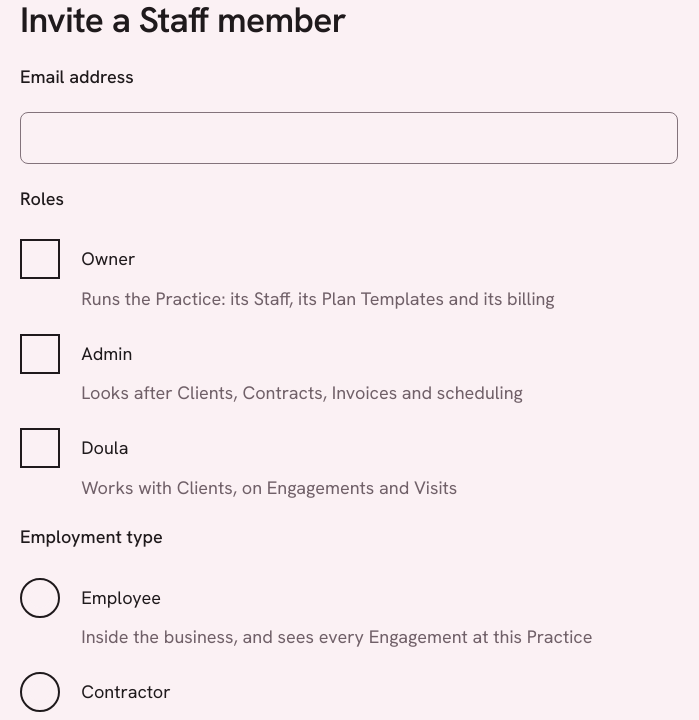
Test: invite a Staff member screen › refuses to send an invitation with no employment type chosen
In the field labelled "Email address": (349, 138) [20,112,678,164], type "lena@example.com"
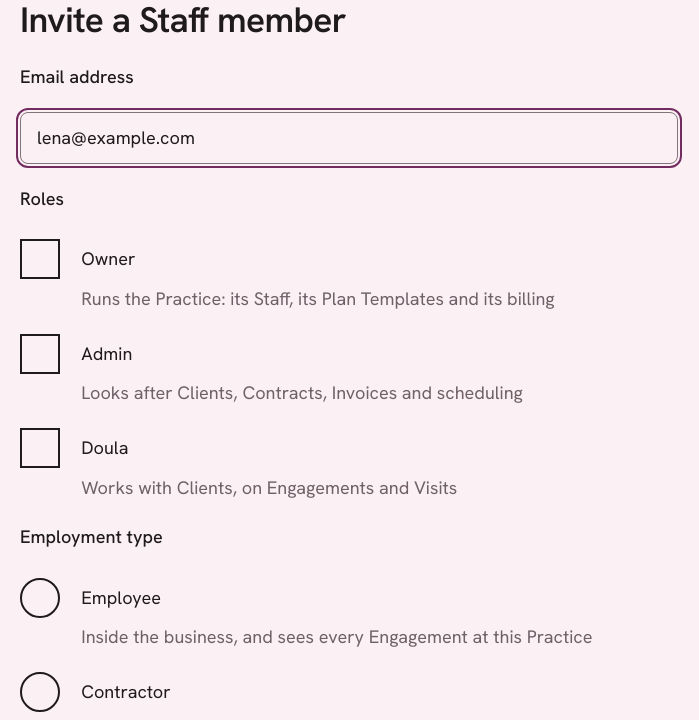
Click the checkbox labelled "Doula": (40, 448) [20,428,60,468]
(page scrolled)
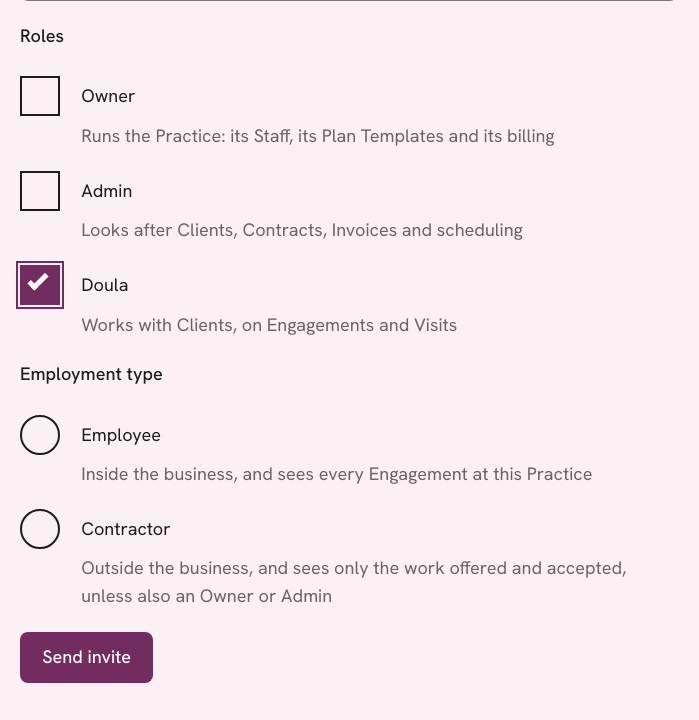
Click the button "Send invite": (87, 657) [20,632,153,683]
(page scrolled)
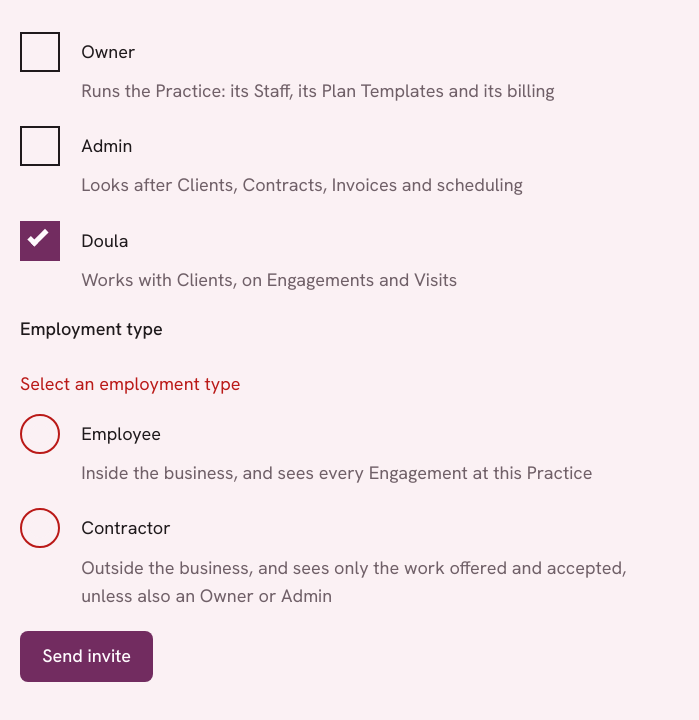
Expected: the text "Select an employment type" is shown, [20,372,240,395]
